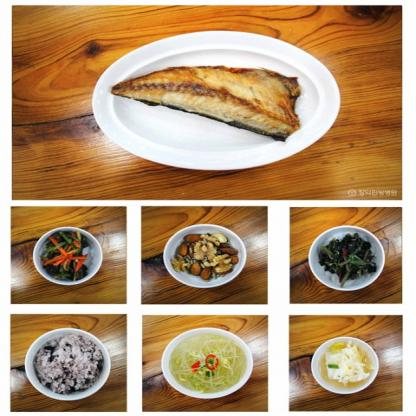Peixe: (92, 60, 329, 140)
